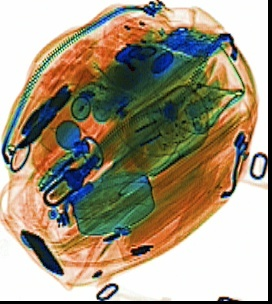powerbank: (19, 227, 66, 277)
